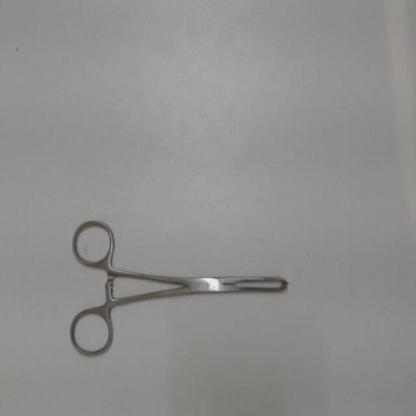Allis Tissue Forceps: (63, 208, 304, 363)
